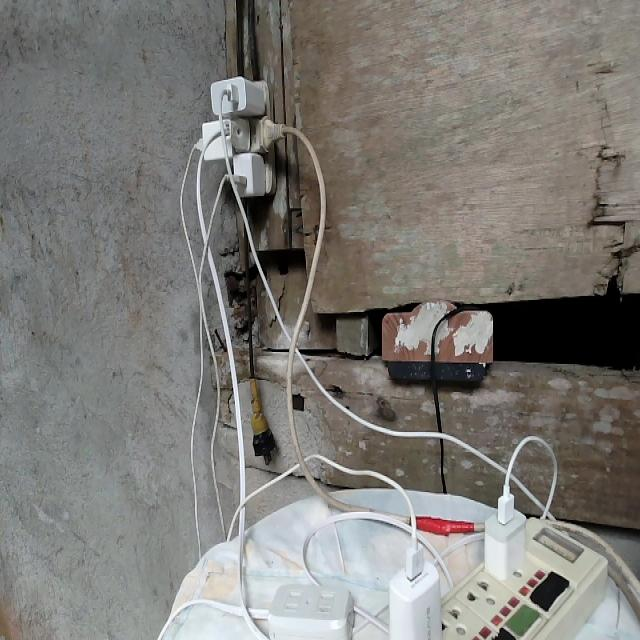-: (193, 72, 294, 204)
